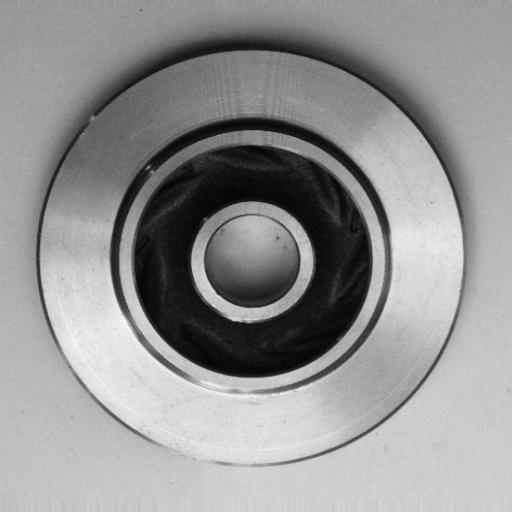scratch: (185, 371, 275, 410)
unpolished_casting: (38, 46, 467, 466)
